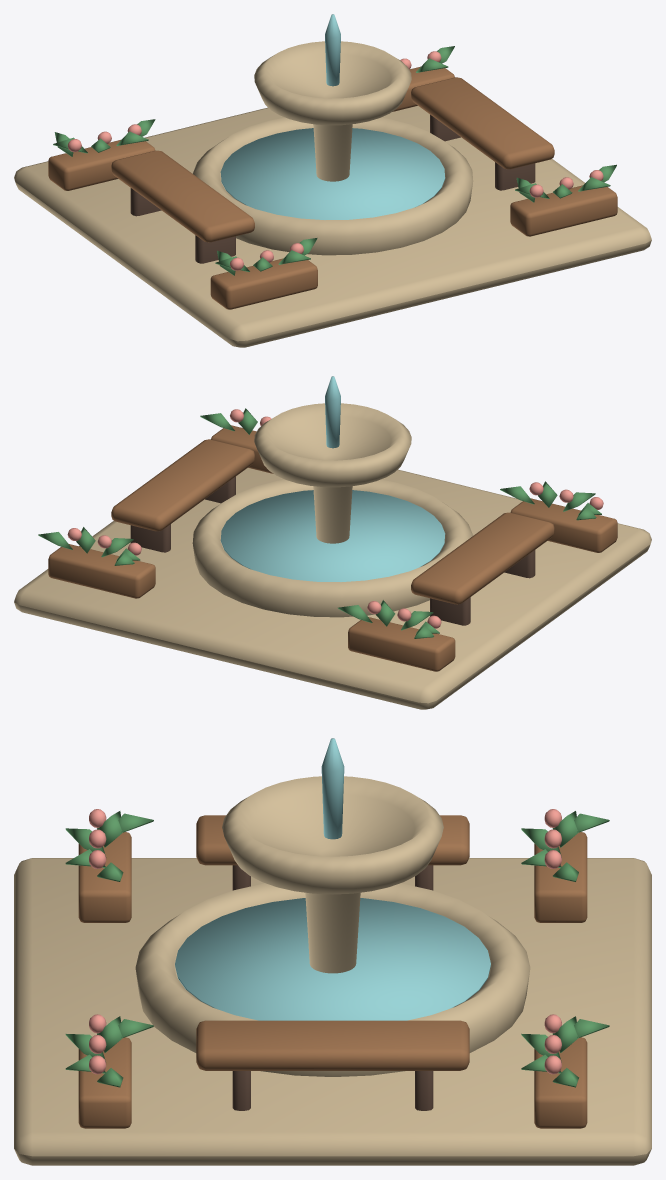
File: park.glb
The picture shows the model from 3 angles, top to bottom: view 1: azimuth 30°, elevation 25°; view 2: azimuth 150°, elevation 25°; view 3: azimuth 270°, elevation 25°; orthographic projection. The views are drawn at different scales.
Parts seen in each view (by area): view 1: park_crafted_mesh; view 2: park_crafted_mesh; view 3: park_crafted_mesh.
Boxes of the visible parts, x1,y1,x2,y2 form: park_crafted_mesh: (14,14,651,347); park_crafted_mesh: (14,376,651,709); park_crafted_mesh: (14,738,651,1165).
Size of the model in its own units: 4.5 by 2.1 by 4.2.
